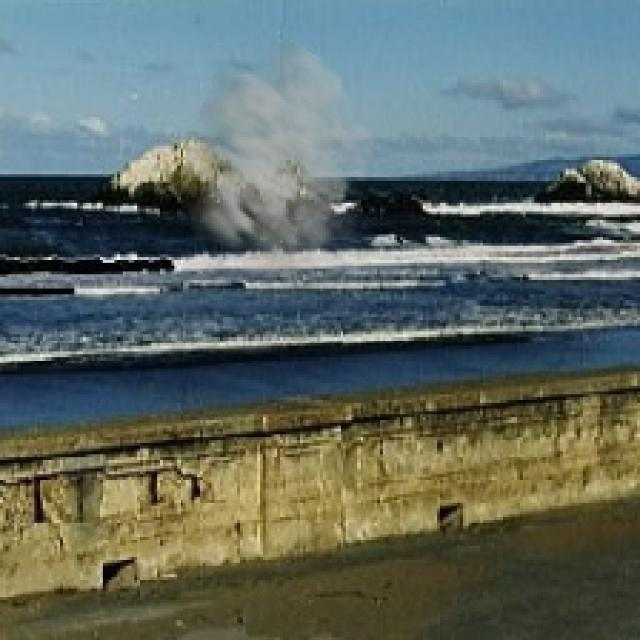Smoke: (160, 32, 383, 288)
